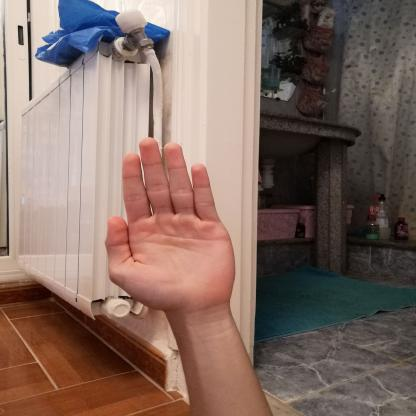SEEN: (89, 130, 247, 318)
